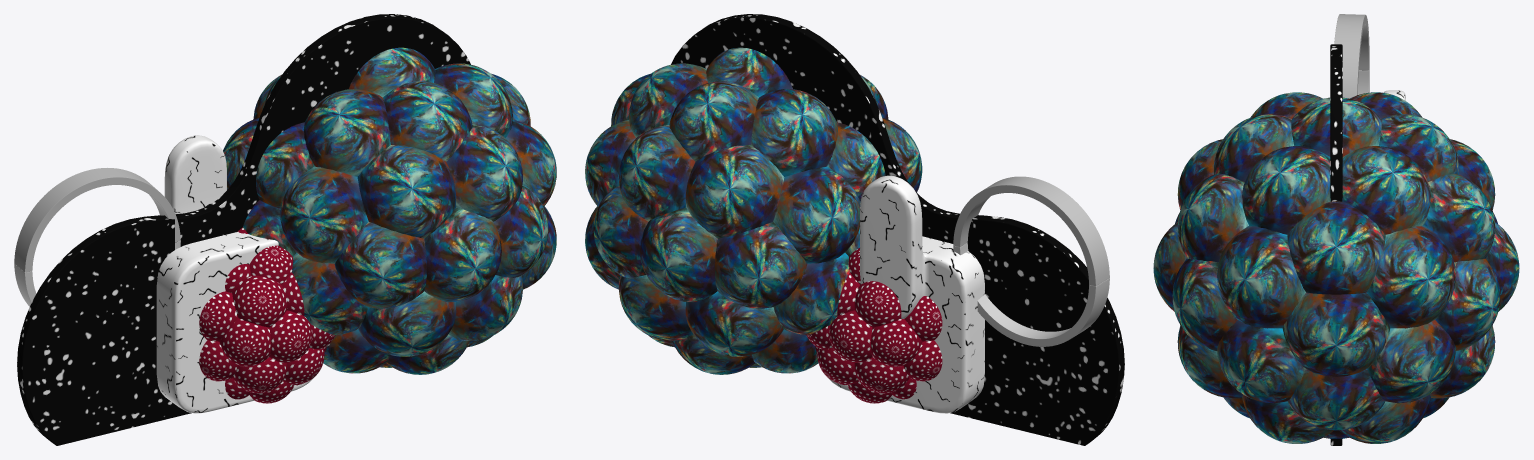
3 renders of one model, left to right at view 1: azimuth 30°, elevation 25°; view 2: azimuth 150°, elevation 25°; view 3: azimuth 270°, elevation 25°, orthographic. The views are drawn at different scales.
Parts seen in each view (by area): view 1: Sphere (×30), Organic Shapes #4, Organic Shapes #9, Half - ring 02, Half - ring 01; view 2: Sphere (×28), Organic Shapes #4, Organic Shapes #9, Half - ring 02, Half - ring 01; view 3: Sphere (×26), Half - ring 02, Organic Shapes #4.
Part boxes in pixels (box(x1,y1,x2,y2)): Sphere (×30): box(199, 47, 556, 393); Organic Shapes #4: box(17, 14, 470, 445); Organic Shapes #9: box(156, 135, 329, 413); Half - ring 02: box(14, 168, 180, 272); Half - ring 01: box(14, 241, 180, 306); Sphere (×28): box(585, 47, 942, 393); Organic Shapes #4: box(671, 14, 1124, 445); Organic Shapes #9: box(827, 175, 984, 413); Half - ring 02: box(953, 176, 1109, 286); Half - ring 01: box(953, 243, 1109, 346); Sphere (×26): box(1153, 92, 1519, 443); Half - ring 02: box(1334, 14, 1369, 98); Organic Shapes #4: box(1330, 44, 1342, 445).
Size of the model in its own units: 0.2407 by 0.1545 by 0.1399.
Materials: 8 (4 with a texture image).
